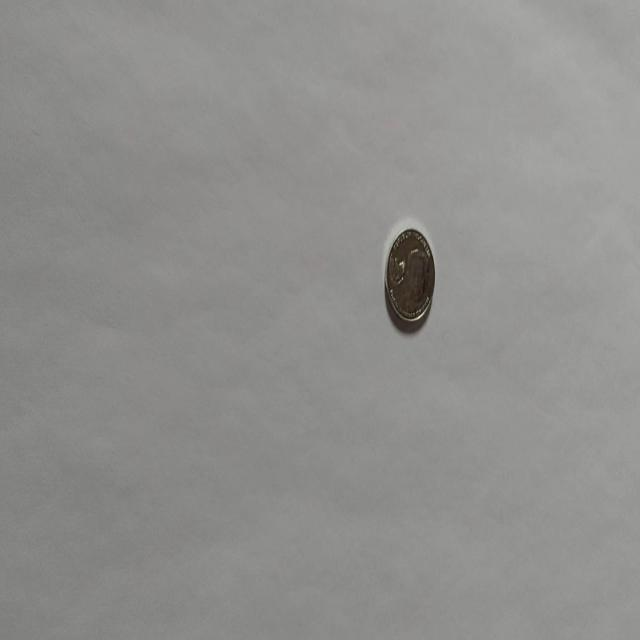seratus rupiah: (384, 226, 436, 330)
